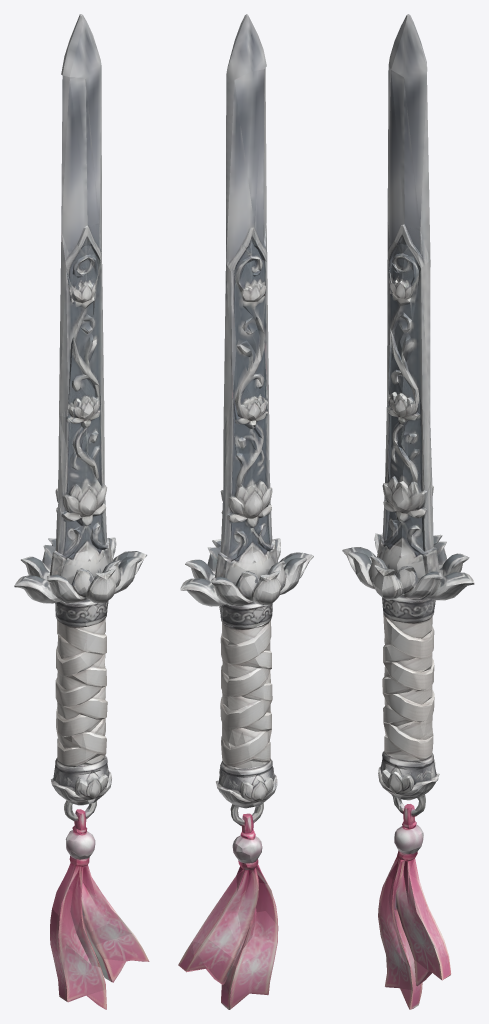
Rendered from dual_blade_2.glb.
3 views of the same model, side by side, from view 1: azimuth 30°, elevation 25°; view 2: azimuth 210°, elevation 25°; view 3: azimuth 330°, elevation 25° (orthographic).
Visible parts, largest first — view 1: output_unwrapped; view 2: output_unwrapped; view 3: output_unwrapped.
Boxes of the visible parts, x1,y1,x2,y2 form: output_unwrapped: (14,14,149,1009); output_unwrapped: (178,14,313,1009); output_unwrapped: (342,14,474,1009).
Bounding box in the file's own units: 0.2664 × 1.9 × 0.1811.
1 material, 1 textured.
